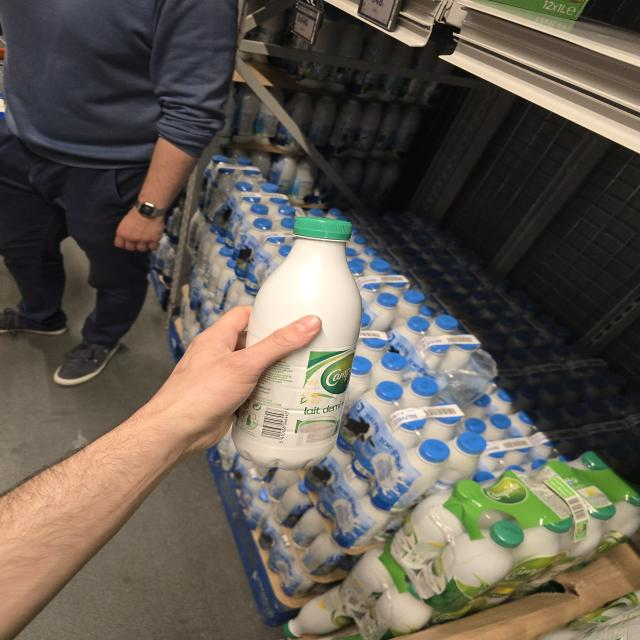Milk: (232, 216, 362, 470)
